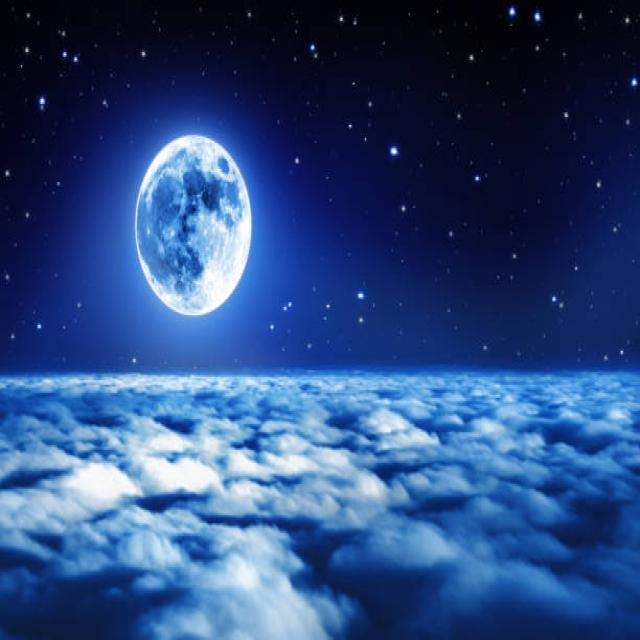moon: (131, 126, 254, 316)
